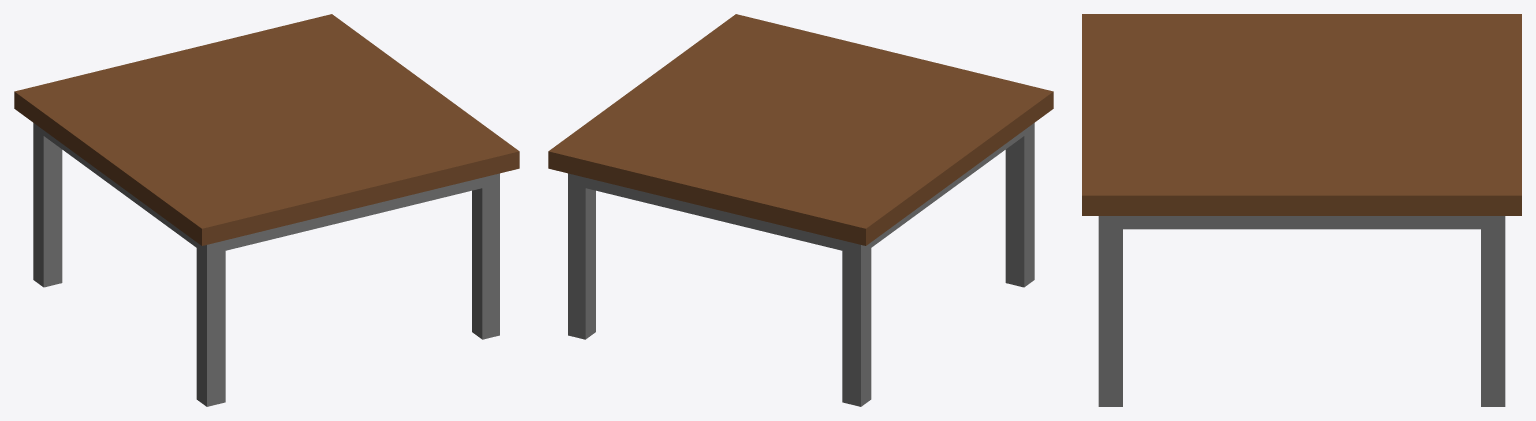
The model's file is Table.fbx.
3 renders of one model, left to right at view 1: azimuth 30°, elevation 25°; view 2: azimuth 150°, elevation 25°; view 3: azimuth 270°, elevation 25°, orthographic. The views are drawn at different scales.
Parts seen in each view (by area): view 1: Cube, Cube.003; view 2: Cube, Cube.003; view 3: Cube, Cube.003.
Part boxes in pixels (bbox=[...]): Cube: bbox=[14, 14, 519, 245]; Cube.003: bbox=[33, 123, 499, 406]; Cube: bbox=[548, 14, 1053, 245]; Cube.003: bbox=[568, 123, 1034, 406]; Cube: bbox=[1082, 14, 1521, 215]; Cube.003: bbox=[1098, 216, 1505, 406].
Size of the model in its own units: 1108 by 621 by 1134.
